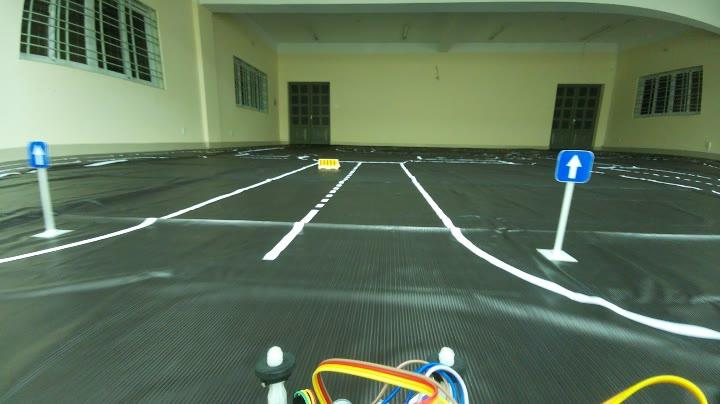onewayroad: (552, 144, 598, 185), (25, 141, 56, 168)
roadblock: (316, 156, 342, 171)
